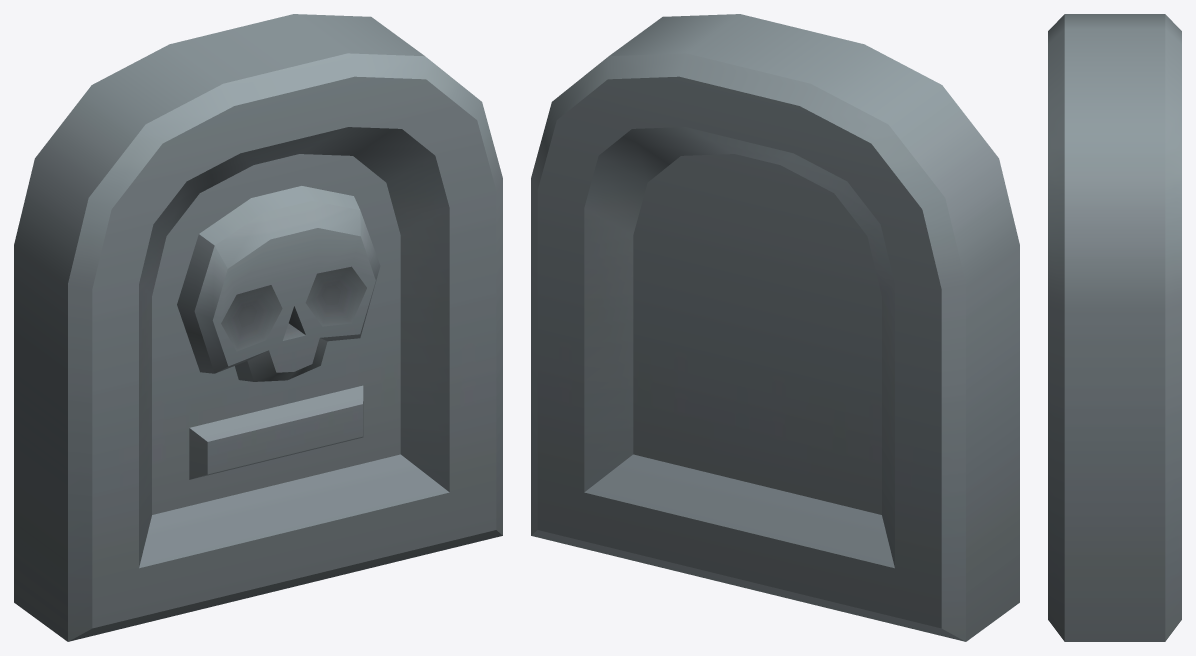
The model's file is gravestone.glb.
The picture shows the model from 3 angles, left to right: view 1: azimuth 30°, elevation 25°; view 2: azimuth 150°, elevation 25°; view 3: azimuth 270°, elevation 25°; orthographic projection. The views are drawn at different scales.
Visible parts, largest first — view 1: gravestone; view 2: gravestone; view 3: gravestone.
Boxes of the visible parts, x1=… form: gravestone: x1=14, y1=14, x2=502, y2=641; gravestone: x1=531, y1=14, x2=1019, y2=641; gravestone: x1=1048, y1=14, x2=1181, y2=641.
Size of the model in its own units: 1.4 by 1.6 by 0.4001.
1 material, 1 textured.
